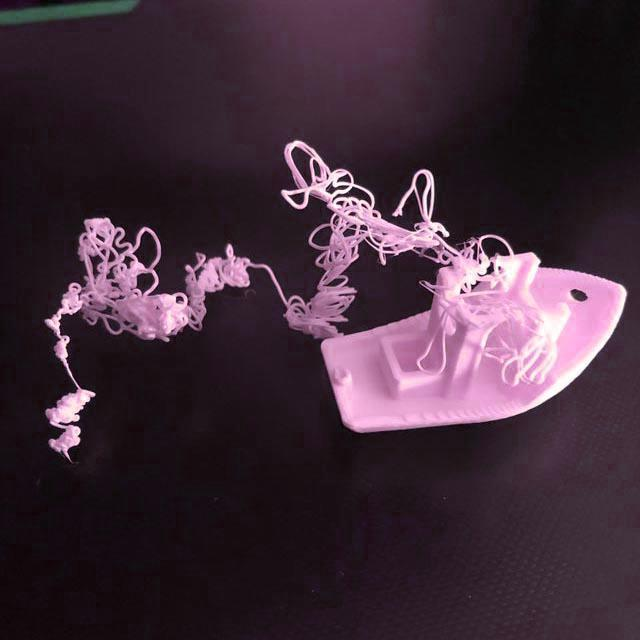Spaghetti: (273, 134, 570, 398), (39, 204, 281, 344), (34, 346, 102, 461)
